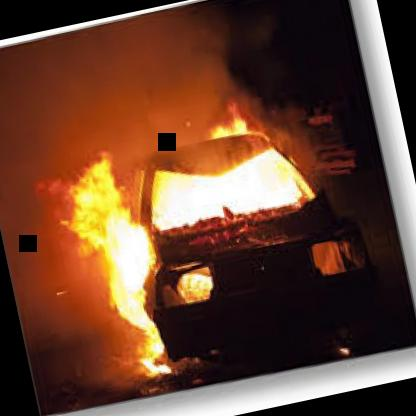fire: (22, 38, 404, 413)
